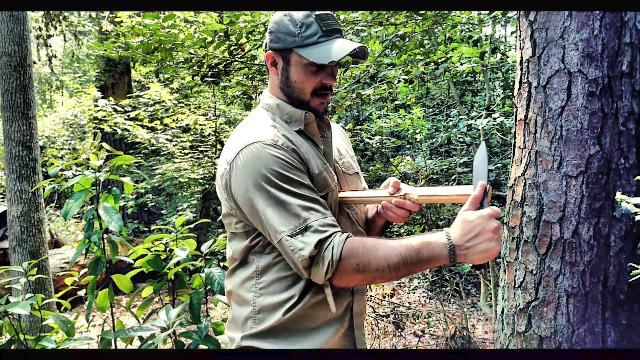knife: (458, 137, 506, 257)
